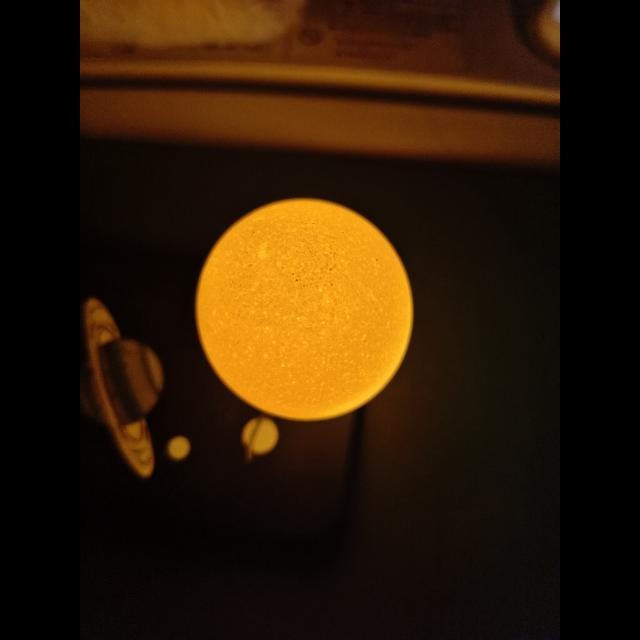AA - Premium: (196, 199, 413, 421)
